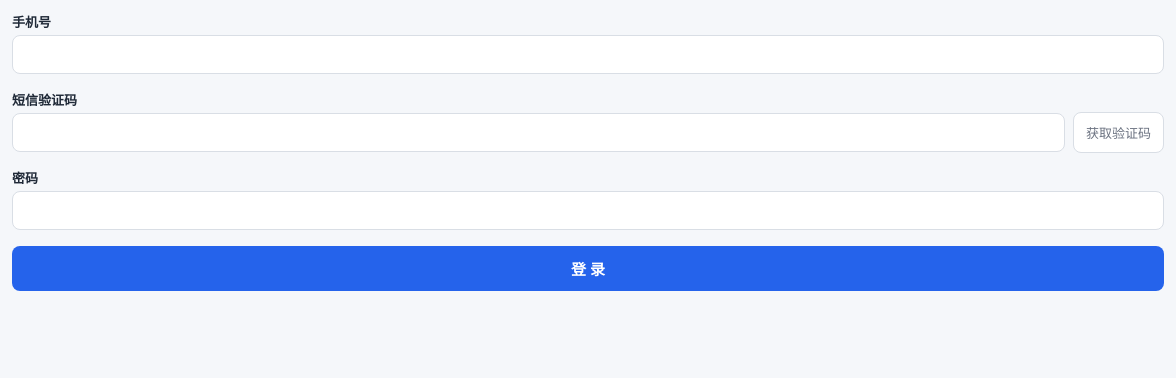
Scenario: US2 非法输入即时拦截与友好提示 › 非法手机号 blur 后显示错误提示，提交被阻止（FR-001）
The width and height of the screenshot is (1176, 378).
Type "12345" into the field labelled "手机号". click: (588, 54)
box: [12,35,1164,74]
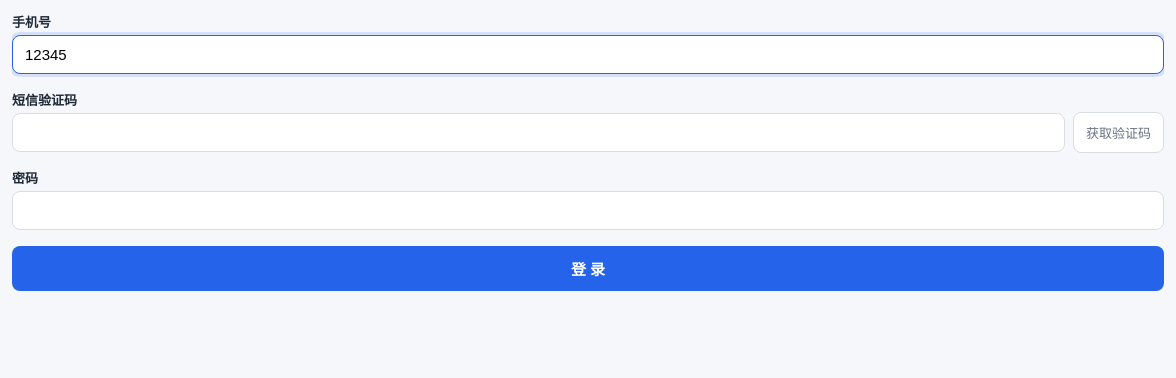
Click the button "登 录". click: (588, 268)
box: [12,246,1164,291]
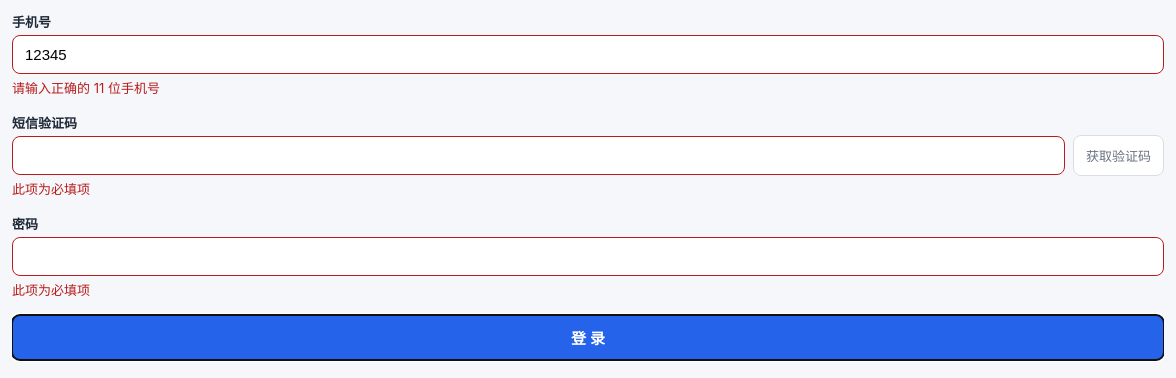
Result: the text "请输入正确的 11 位手机号" is shown at [12,80,160,96]
